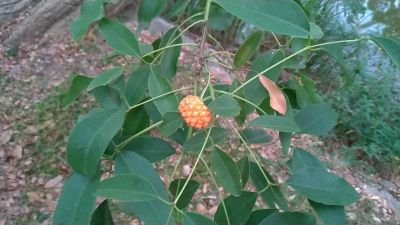eggs: (179, 94, 212, 130)
